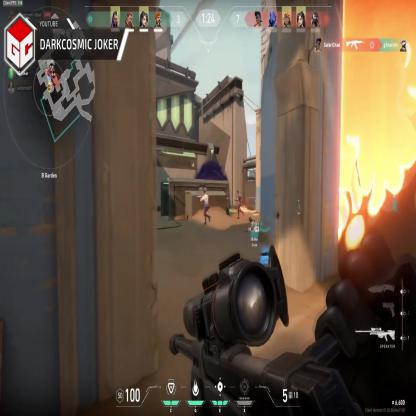enemy: (202, 186, 211, 223), (236, 189, 242, 217)
enemy_head: (203, 187, 207, 194), (237, 190, 239, 195)
